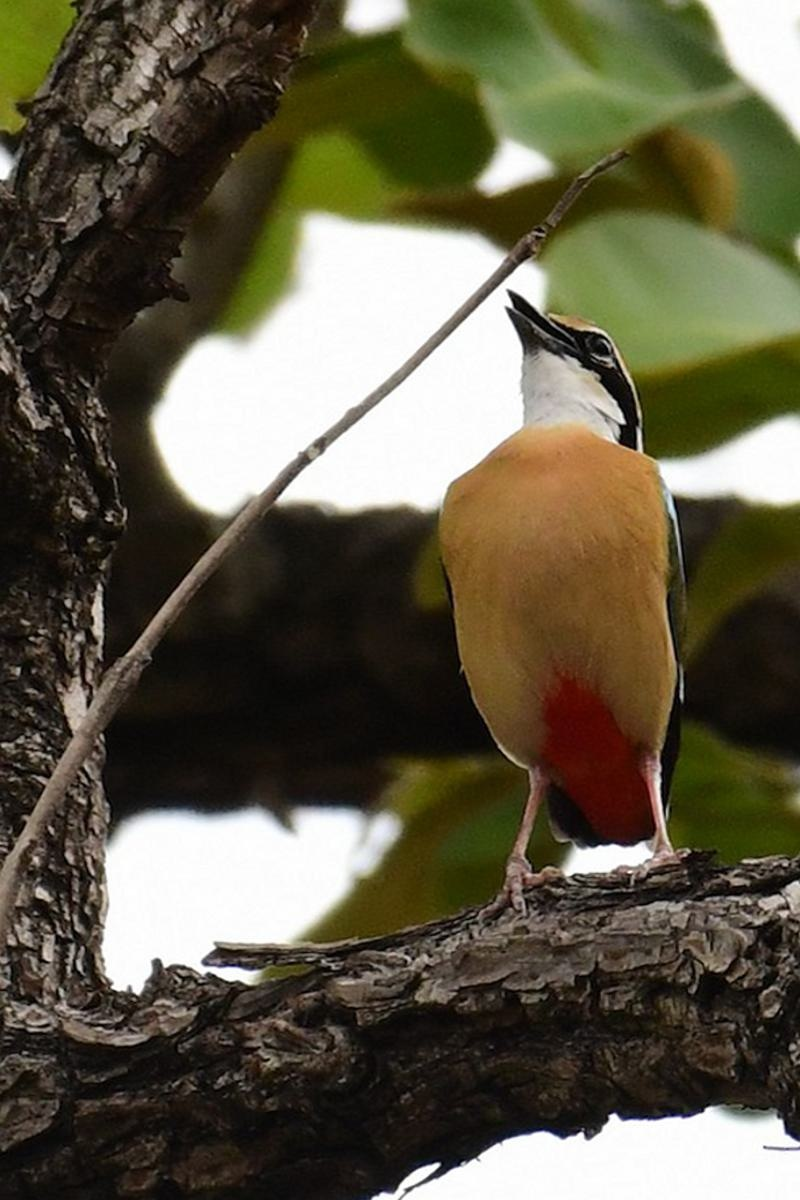pitta: (426, 269, 716, 975)
